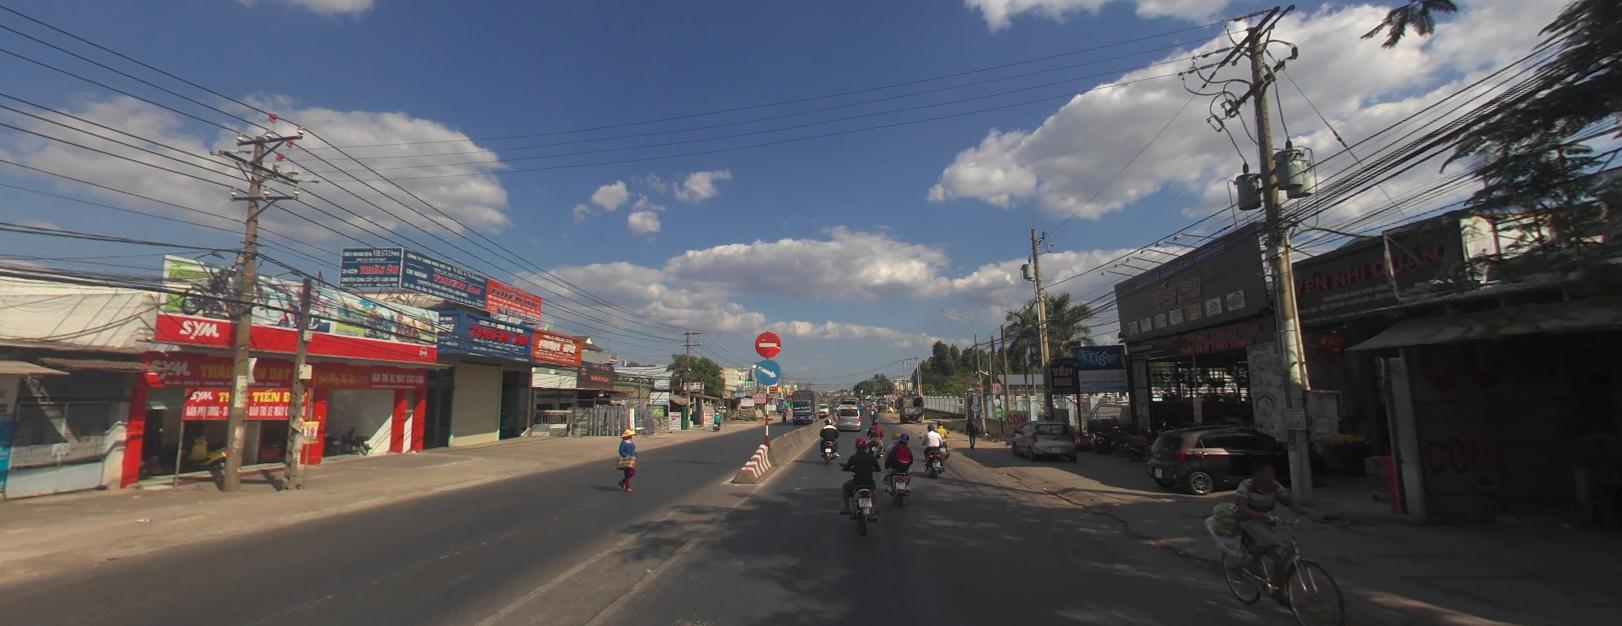Cam nguoc chieu: (755, 330, 781, 356), (755, 330, 780, 356), (755, 331, 781, 355)
Hieu lenh: (754, 358, 779, 384), (754, 358, 779, 383), (755, 358, 780, 383)
